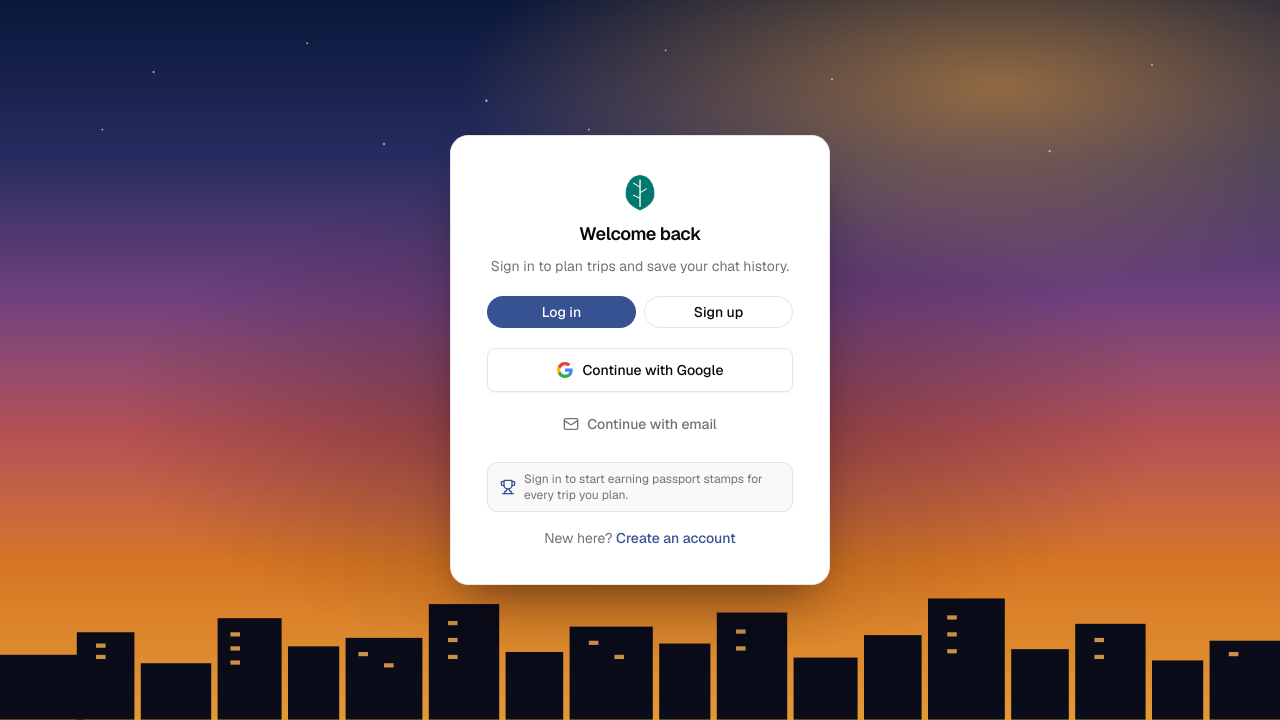
LoginCard › Continue with email reveals the email/password form
Click the button "Continue with email": (640, 424) top-left (487, 402), bottom-right (793, 446)
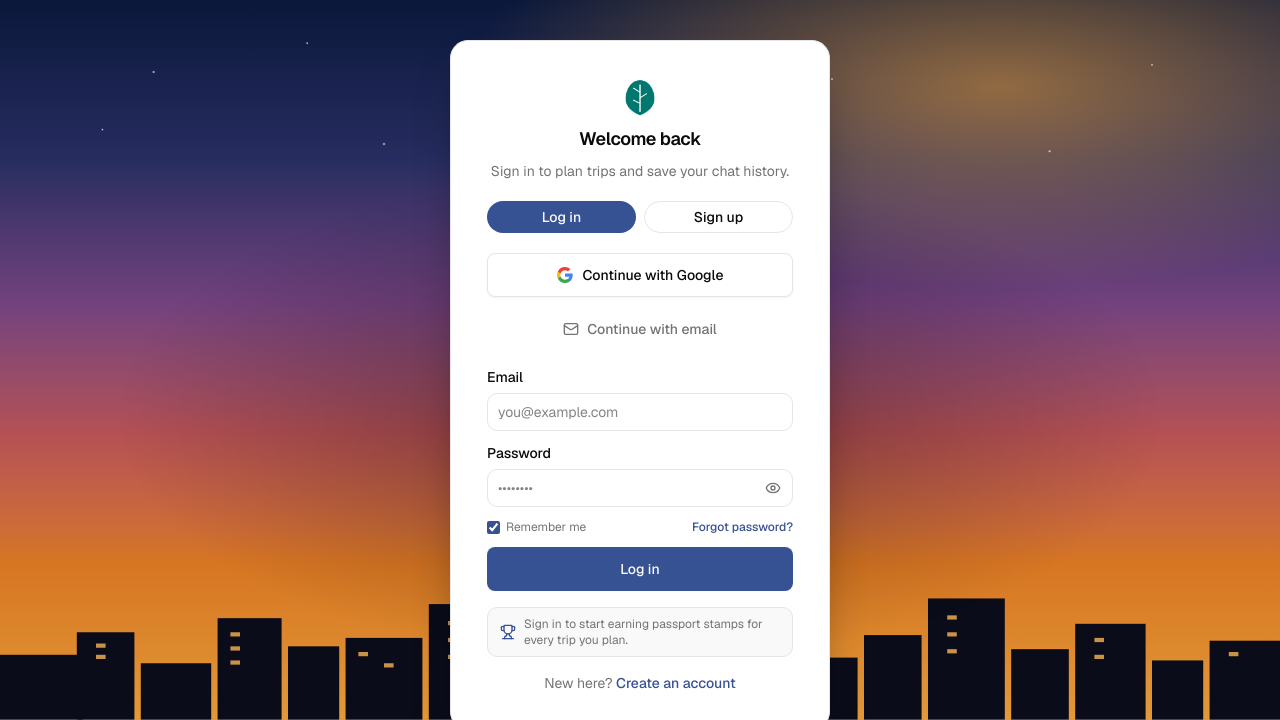
Expected: the field labelled "Email" is shown, top-left (487, 393), bottom-right (793, 431)
Expected: the password field labelled "Password" is shown, top-left (487, 469), bottom-right (793, 507)
